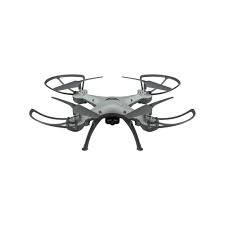drone: (28, 73, 198, 152)
